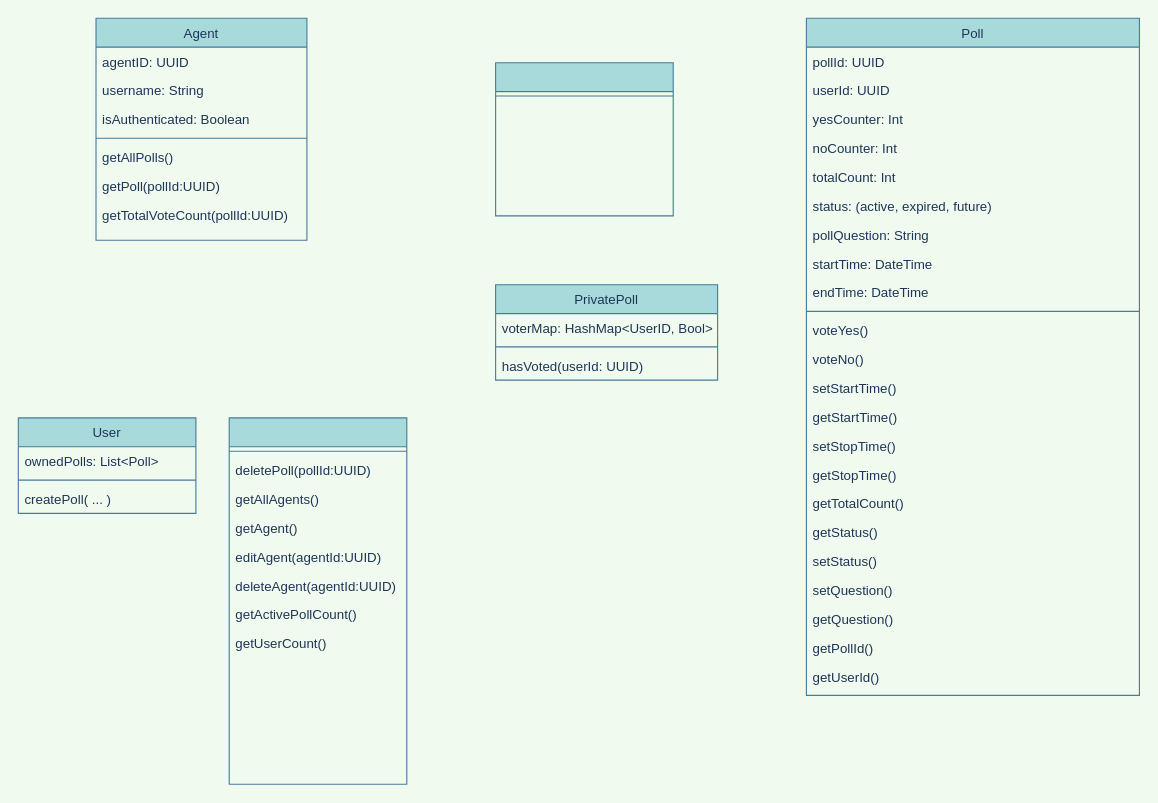
Some shapes in this 1158 by 803 pixel diagram are drawn without their labels. Here are the shapes that lost their labels. From the top down, the box of each, then its label:
(495, 62, 673, 216): PublicPoll
(228, 417, 407, 784): Admin
